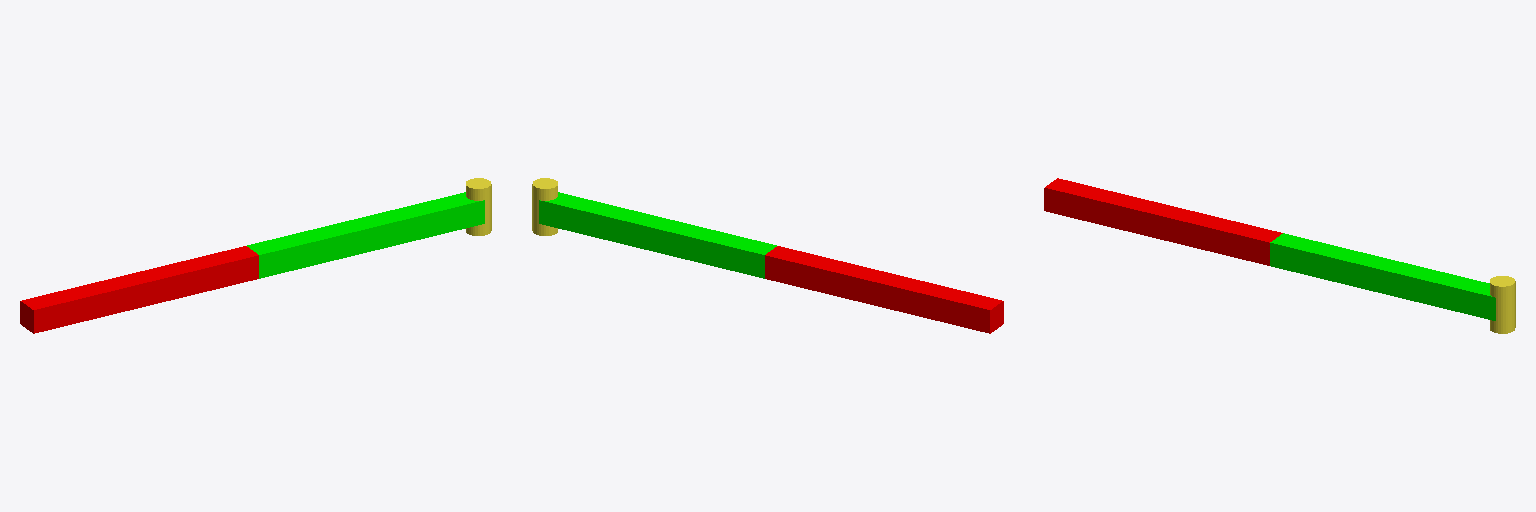
URDF robot description (planar2):
<?xml version="1.0"?>
<robot name="planar2">
  
  <material name="red">
    <color rgba="1 0 0 0.8" />
  </material>
  <material name="green">
    <color rgba="0 1 0 0.8" />
  </material>

  <link name="base_link" />
  <link name="link1">
    <visual>
      <geometry>
        <box size="1 0.1 0.1" />
      </geometry>
      <origin xyz="0.5 0 0" />
      <material name="red" />
    </visual>
  </link>
  <link name="link2">
    <visual>
      <geometry>
        <box size="1 0.1 0.1" />
      </geometry>
      <origin xyz="0.5 0 0" />
      <material name="green" />
    </visual>
  </link>
  <link name="end">
    <visual>
      <geometry>
        <cylinder radius = "0.05" length="0.2" />
      </geometry>
    </visual>
  </link>

  <joint name="q1" type="continuous">
    <parent link="base_link" />
    <child link="link1" />
    <axis xyz="0 0 1" />
  </joint>
  
  <joint name="q2" type="continuous">
    <parent link="link1" />
    <child link="link2" />
    <origin xyz="1 0 0" />
    <axis xyz="0 0 1" />
  </joint>
  
  <joint name="notajoint" type="fixed">
    <parent link="link2" />
    <child link="end" />
    <origin xyz="1 0 0" />
  </joint>
  
</robot>

--- What the picture shows (computed from the rendered views, not written in the file) ---
3 views of the same robot in one strip: view 1: azimuth 30°, elevation 25°; view 2: azimuth 150°, elevation 25°; view 3: azimuth 330°, elevation 25° (orthographic).
Robot: planar2 — 4 links, 3 joints (2 continuous, 1 fixed); root link base_link; default pose: every joint at zero.
Visible links, largest first — view 1: link1, link2, end; view 2: link1, link2, end; view 3: link1, link2, end.
Link boxes in pixels (x1=…): link1: x1=20, y1=246, x2=258, y2=333; link2: x1=247, y1=192, x2=484, y2=278; end: x1=466, y1=178, x2=491, y2=235; link1: x1=765, y1=246, x2=1003, y2=333; link2: x1=539, y1=192, x2=776, y2=278; end: x1=532, y1=178, x2=557, y2=235; link1: x1=1044, y1=178, x2=1282, y2=265; link2: x1=1270, y1=233, x2=1495, y2=320; end: x1=1490, y1=276, x2=1515, y2=333.
Bounding box of the posed robot: 2.05 × 0.1 × 0.2 m (x, y, z).
Geometry: primitives only (box / cylinder / sphere), no mesh files.